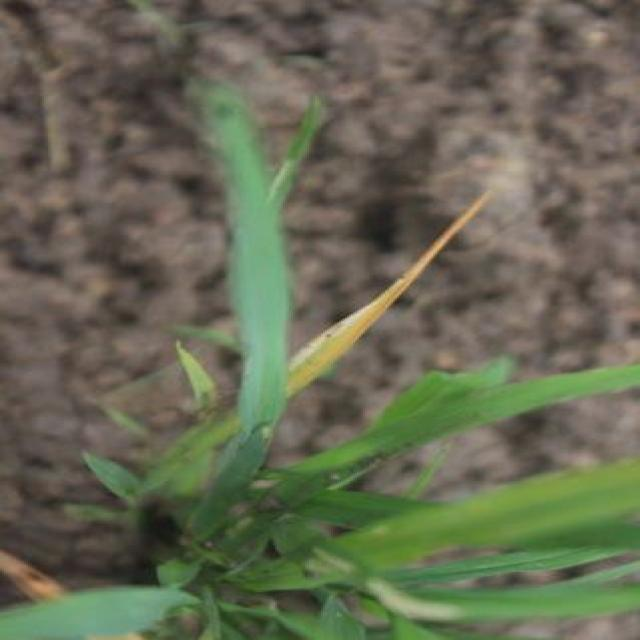Rice Tungro: (309, 168, 485, 359)
